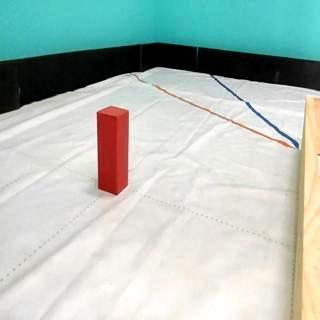redbox: (96, 104, 130, 194)
